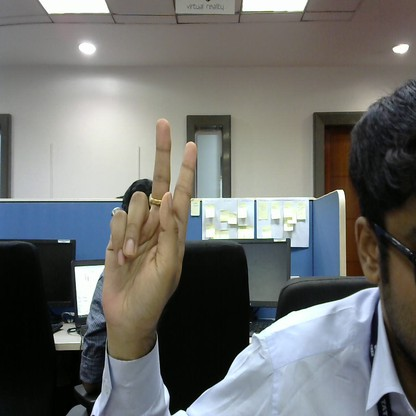k: (94, 117, 202, 335)
